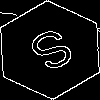S: (25, 25, 85, 83)
